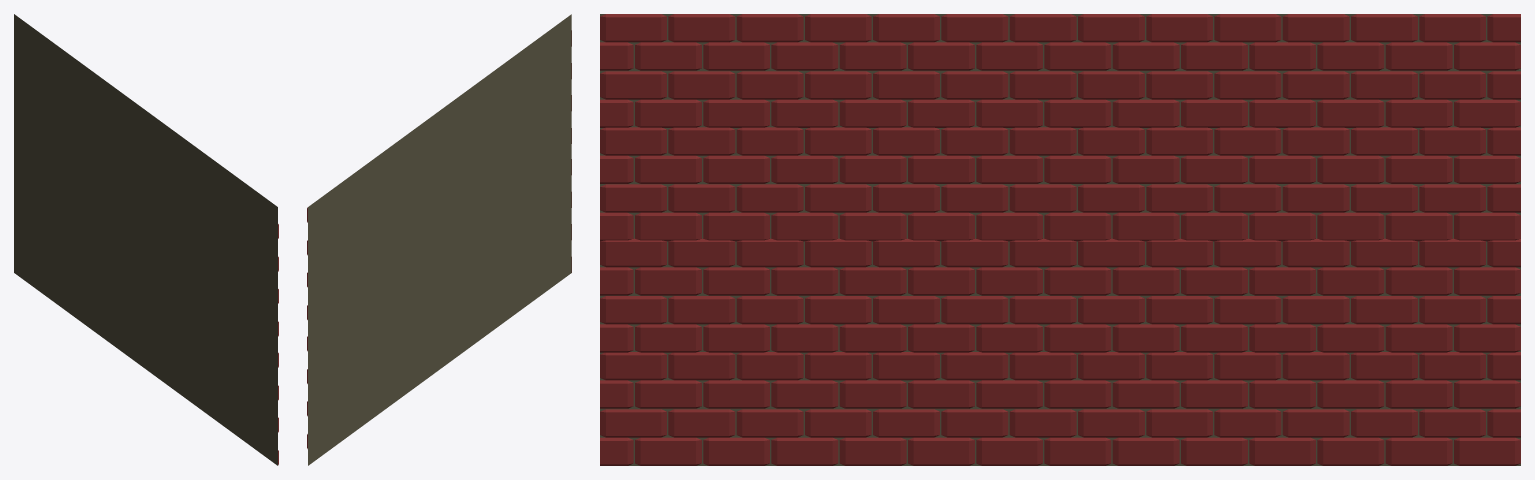
Rendered from brick wall.fbx.
3 views of the same model, side by side, from view 1: azimuth 30°, elevation 25°; view 2: azimuth 150°, elevation 25°; view 3: azimuth 270°, elevation 25° (orthographic). The views are drawn at different scales.
Parts seen in each view (by area): view 1: Plane; view 2: Plane; view 3: Cube, Plane.
Part boxes in pixels (x1=…): Plane: x1=14, y1=14, x2=277, y2=465; Plane: x1=308, y1=14, x2=571, y2=465; Cube: x1=600, y1=14, x2=1520, y2=465; Plane: x1=600, y1=14, x2=1520, y2=465.
Bounding box in the file's own units: 1.18 × 314 × 579.
